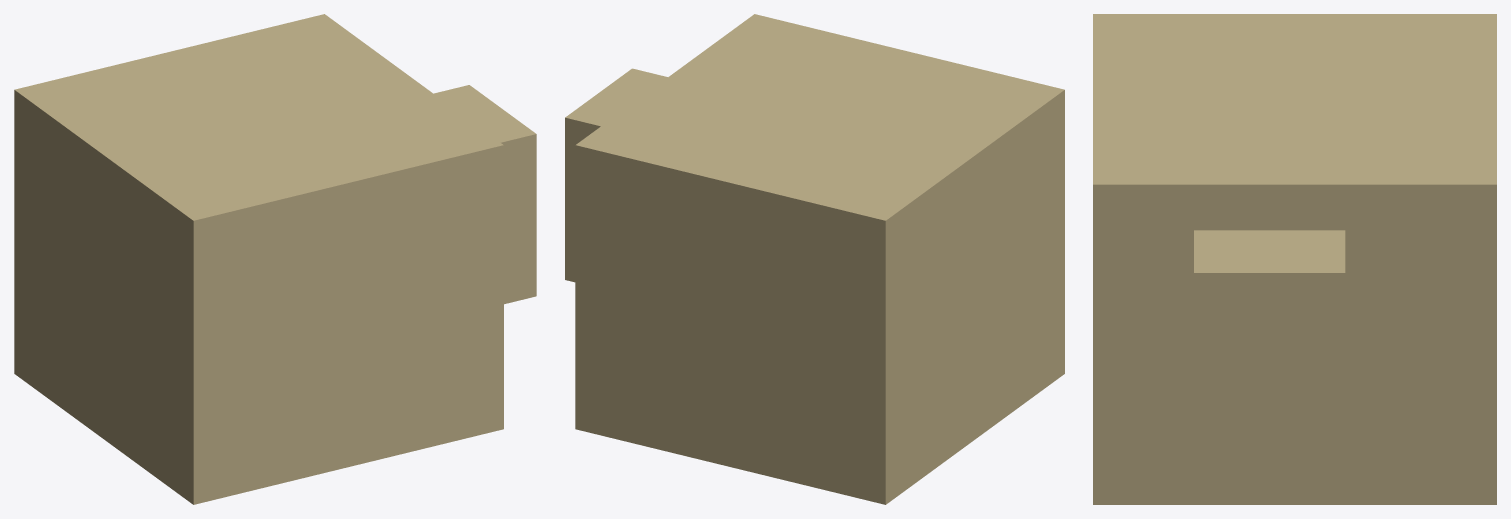
Rendered from taza_01.glb.
3 views of the same model, side by side, from view 1: azimuth 30°, elevation 25°; view 2: azimuth 150°, elevation 25°; view 3: azimuth 270°, elevation 25° (orthographic). The views are drawn at different scales.
Visible parts, largest first — view 1: taza; view 2: taza; view 3: taza.
Part boxes in pixels (x1,y1,x2,y2): taza: [14, 14, 536, 504]; taza: [565, 14, 1064, 504]; taza: [1093, 14, 1496, 504].
Bounding box in the file's own units: 0.7143 × 0.5 × 0.5714.
